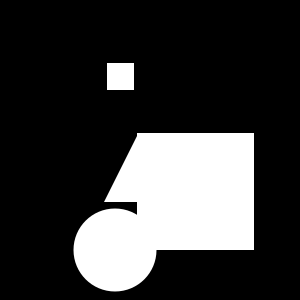circle: (137, 133, 254, 250), (107, 63, 134, 90)
rectangle: (74, 209, 157, 292)
triangle: (104, 133, 173, 202)
